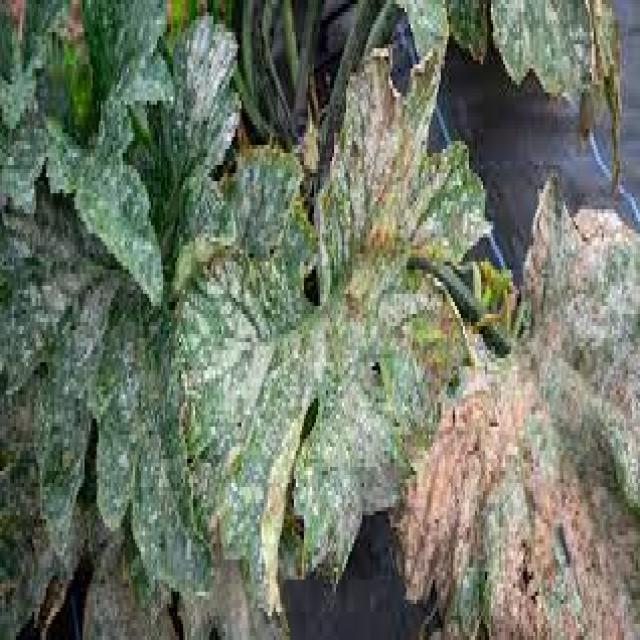powdery-mildew: (211, 276, 281, 466), (186, 11, 250, 182)
